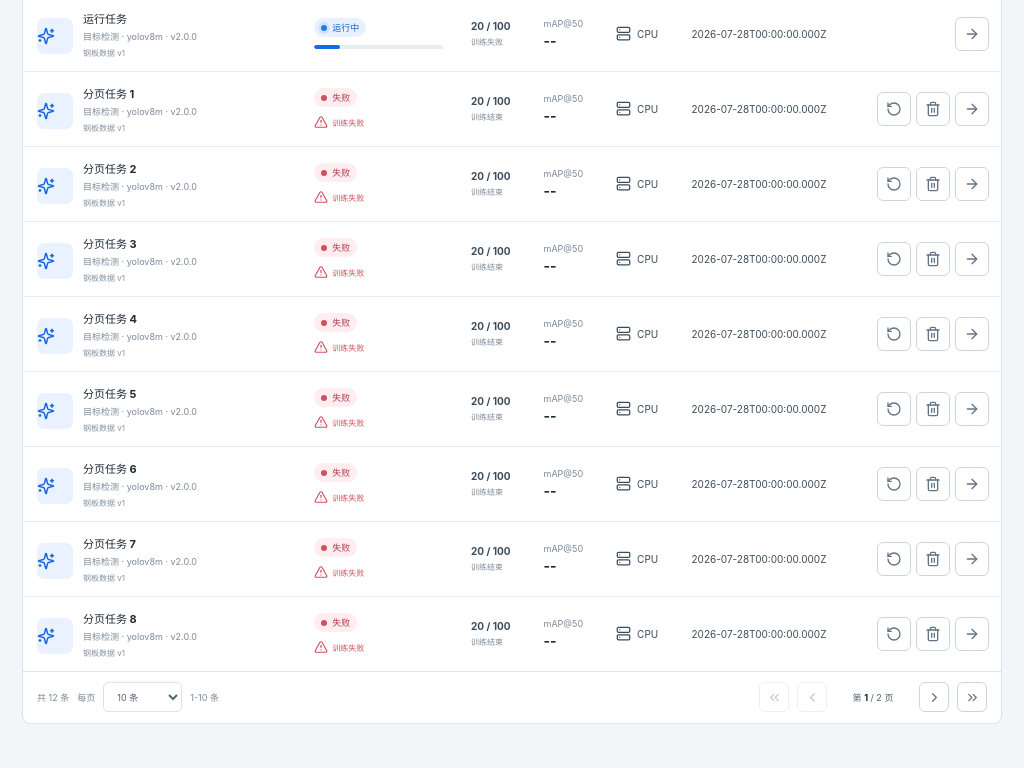
TrainingPage delete action › paginates jobs and exposes the configured model version
(page scrolled)
Expected: the text "分页任务 9" is not shown
Click the button named "下一页": (934, 697) [919,682,949,712]
(page scrolled)
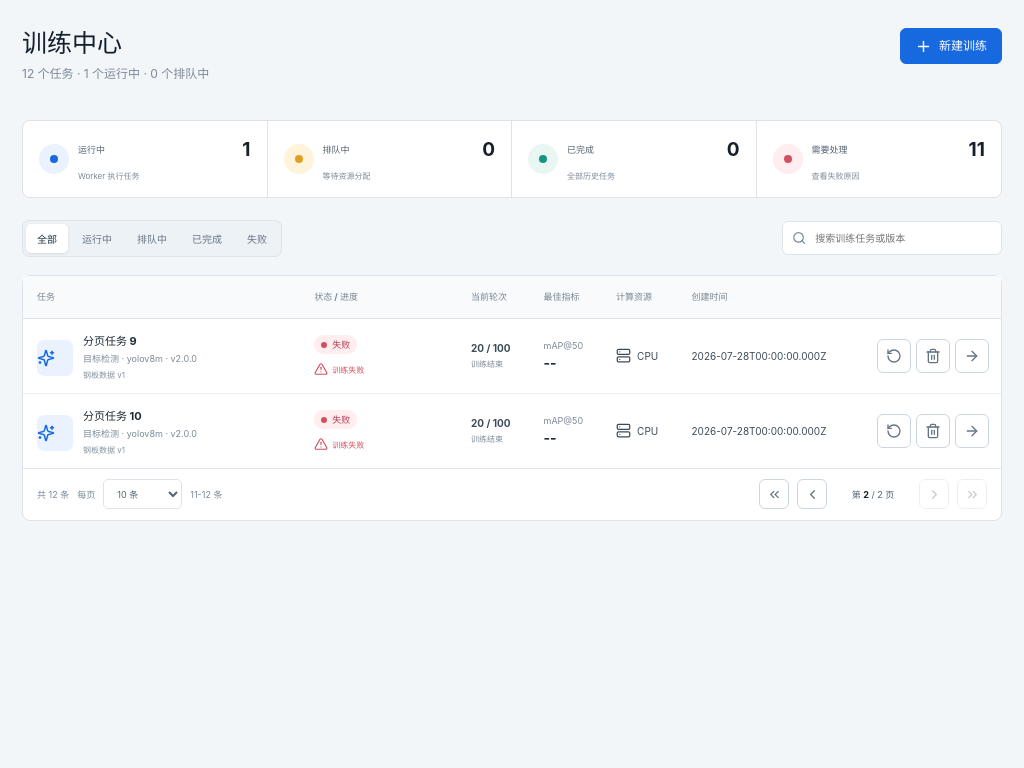
Now the text "分页任务 9" is shown, box [83,334,137,348]
